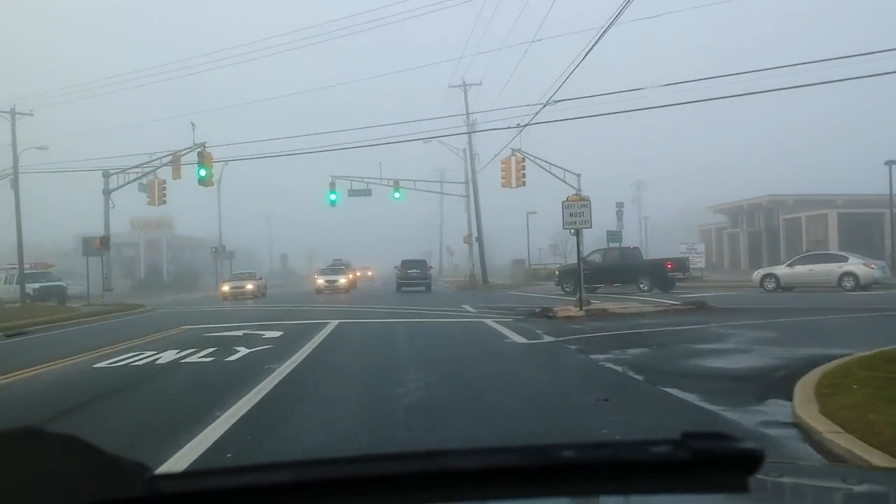car: (550, 244, 693, 294), (751, 247, 893, 293), (1, 268, 74, 310), (217, 268, 269, 301), (392, 256, 434, 295), (311, 266, 354, 296), (324, 259, 357, 290), (352, 265, 376, 283)
